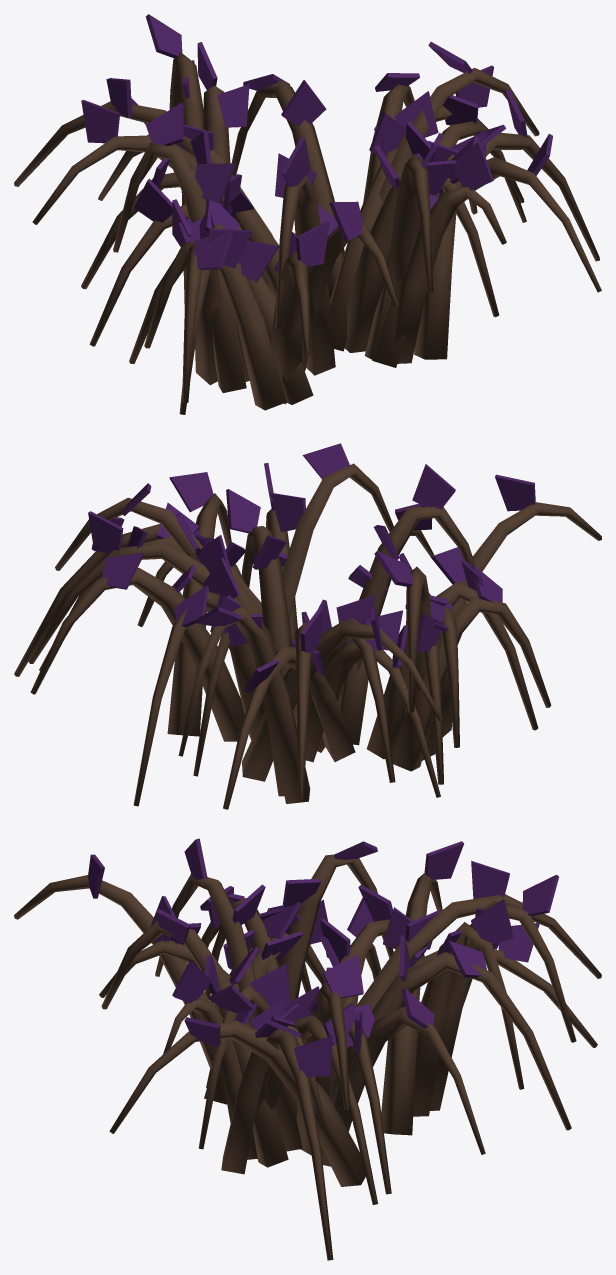
Rendered from bramble_a.glb.
3 renders of one model, top to bottom at view 1: azimuth 30°, elevation 25°; view 2: azimuth 150°, elevation 25°; view 3: azimuth 270°, elevation 25°, orthographic. The views are drawn at different scales.
Visible parts, largest first — view 1: bramble_a; view 2: bramble_a; view 3: bramble_a.
Boxes of the visible parts, x1,y1,x2,y2 form: bramble_a: (14, 14, 601, 414); bramble_a: (14, 443, 601, 809); bramble_a: (14, 838, 601, 1260).
Size of the model in its own units: 0.7449 by 0.3858 by 0.7736.
